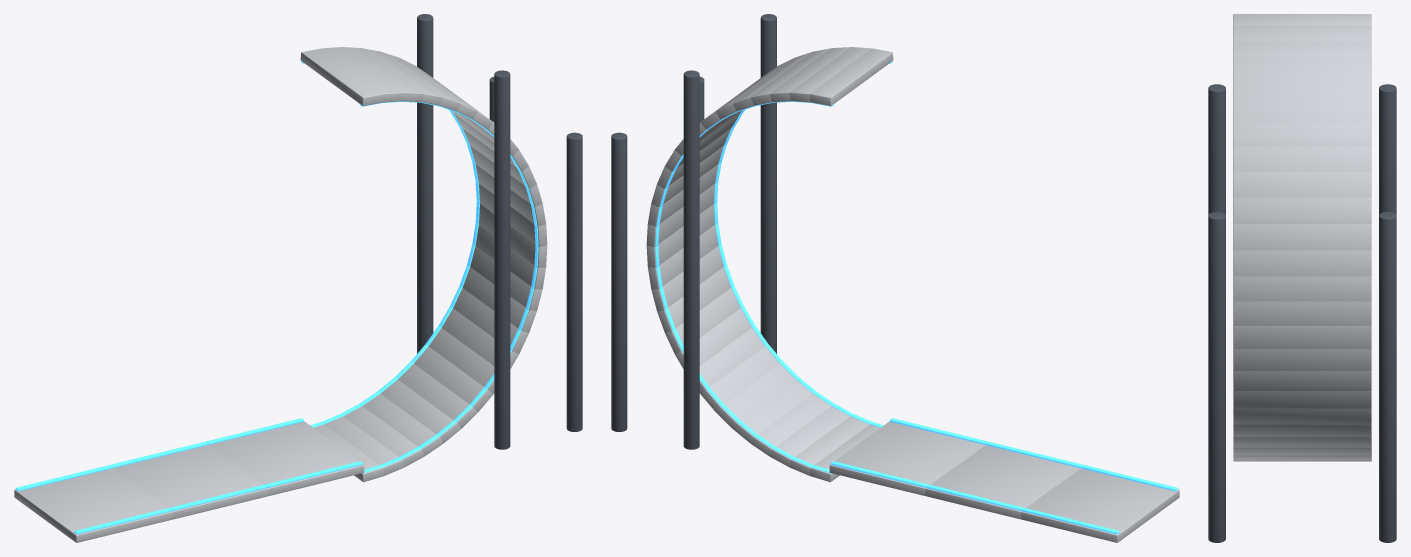
Rendered from rampa_curva.glb.
The picture shows the model from 3 angles, left to right: view 1: azimuth 30°, elevation 25°; view 2: azimuth 150°, elevation 25°; view 3: azimuth 270°, elevation 25°; orthographic projection. The views are drawn at different scales.
Parts seen in each view (by area): view 1: rampa_curva; view 2: rampa_curva; view 3: rampa_curva.
Part boxes in pixels (x1,y1,x2,y2): rampa_curva: (14,14,582,542); rampa_curva: (611,14,1179,542); rampa_curva: (1208,14,1396,542).
Size of the model in its own units: 15.65 by 11.56 by 4.64.
